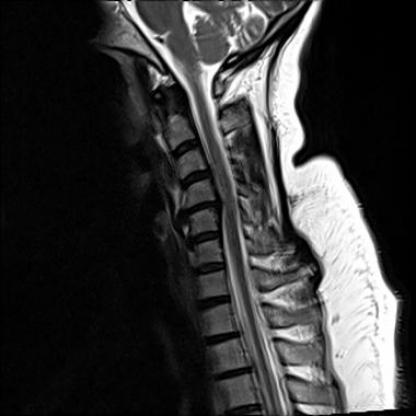Disc Bulgerotation: (180, 198, 221, 215), (179, 170, 214, 185), (170, 140, 200, 156)
Disc Protrusionrotation: (180, 199, 221, 215)
